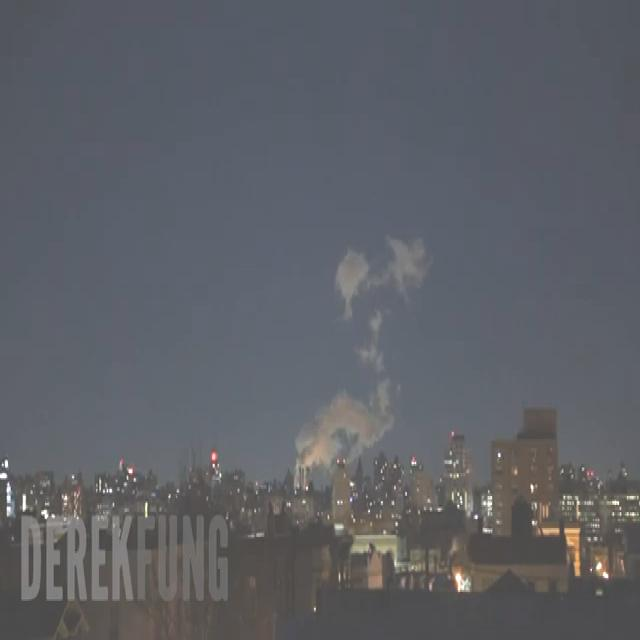smoke: (295, 309, 398, 468)
